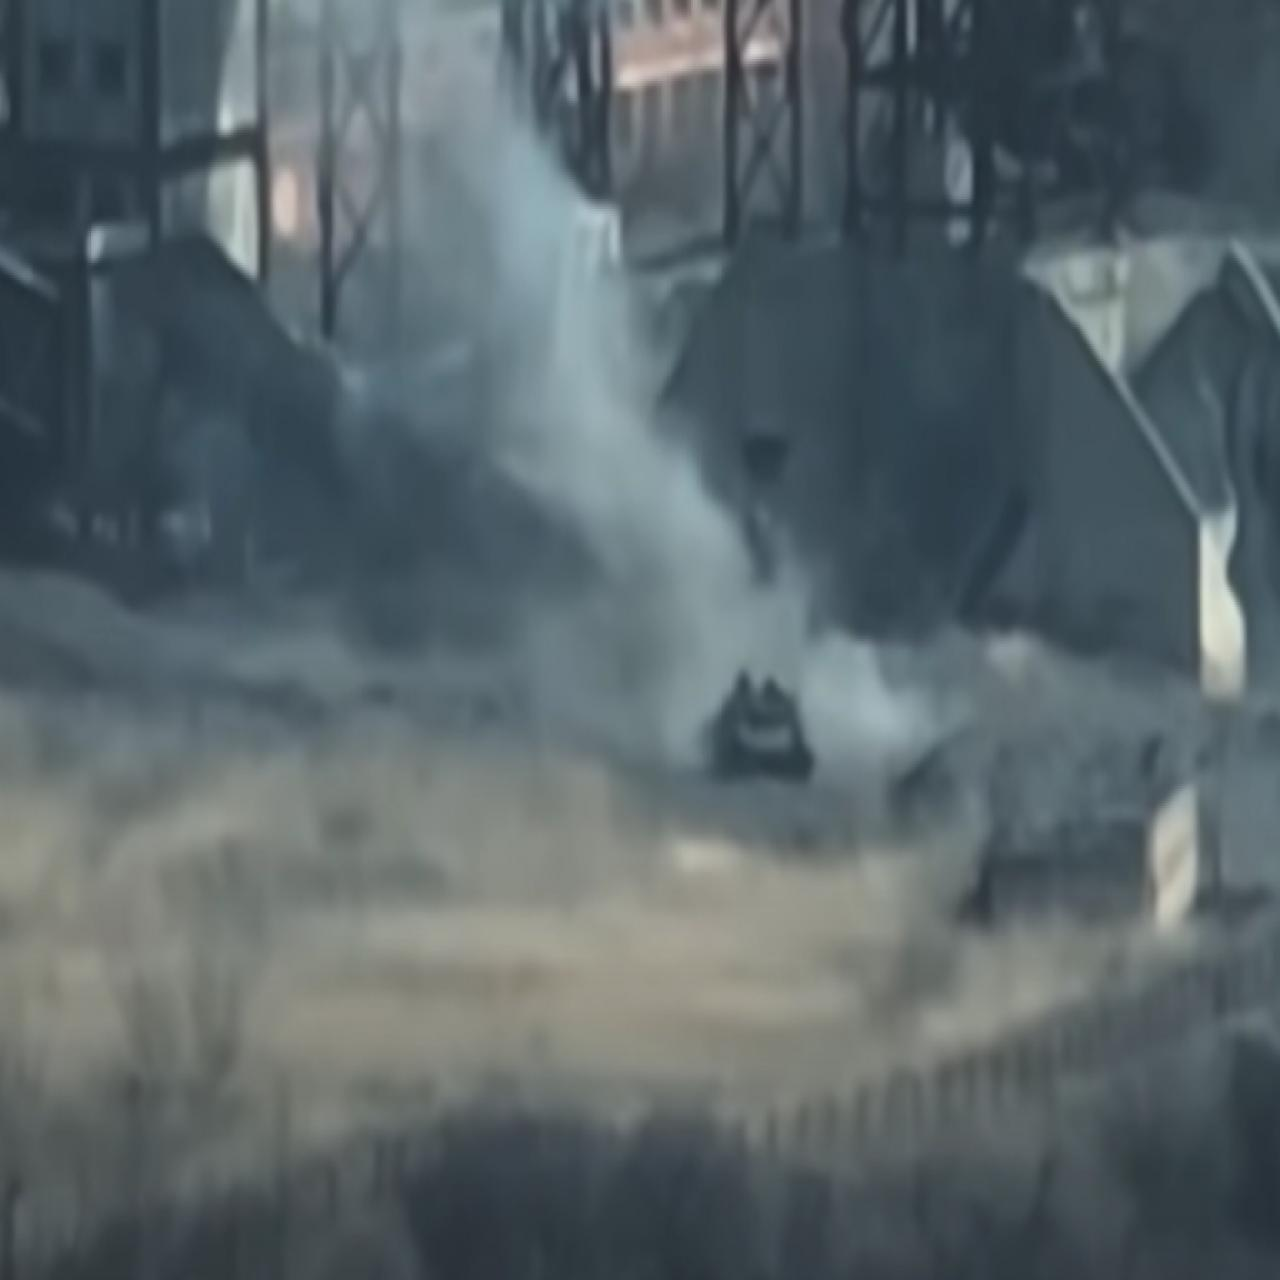MIL_Veh: (702, 664, 816, 784)
